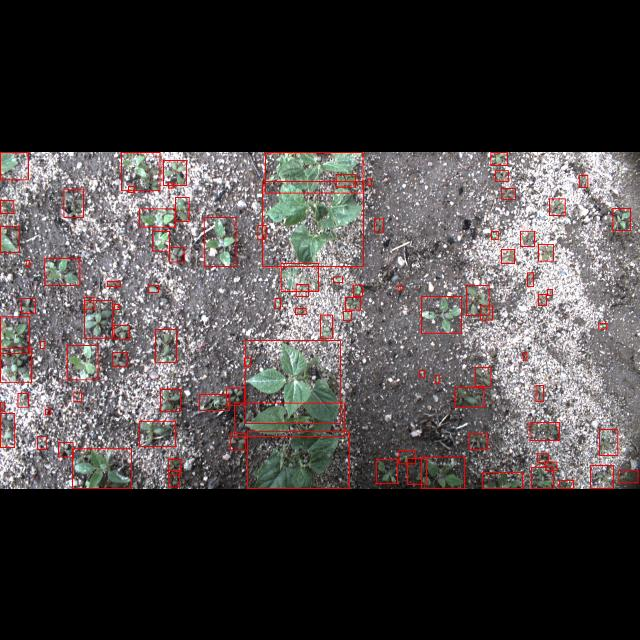crop: (262, 180, 364, 266), (244, 340, 340, 422), (247, 432, 349, 488), (265, 152, 363, 192), (234, 402, 344, 436), (0, 151, 28, 179), (1, 225, 20, 251)
weed: (72, 448, 132, 488), (204, 217, 236, 266), (120, 152, 160, 190), (421, 296, 461, 332), (422, 456, 464, 488), (66, 344, 98, 380), (1, 316, 30, 354), (281, 263, 319, 291), (84, 300, 112, 338), (1, 347, 32, 381), (44, 257, 80, 285), (139, 420, 175, 446), (156, 328, 177, 362), (466, 285, 489, 315), (139, 208, 175, 226), (483, 472, 523, 488), (454, 387, 484, 407), (64, 189, 84, 217), (377, 458, 398, 484), (530, 422, 560, 440), (590, 466, 614, 488), (164, 160, 186, 184), (598, 429, 618, 455), (1, 413, 16, 447), (408, 458, 427, 484), (199, 394, 229, 410), (531, 468, 553, 488), (160, 389, 180, 411), (613, 208, 631, 230), (153, 230, 170, 250), (175, 196, 189, 220), (468, 433, 488, 449), (475, 368, 491, 387), (230, 432, 246, 450), (320, 314, 332, 338), (226, 388, 244, 404), (538, 244, 554, 260), (618, 470, 638, 482), (336, 174, 356, 186), (550, 198, 564, 215), (58, 442, 74, 456), (112, 352, 128, 366), (114, 324, 130, 338), (170, 246, 184, 262), (521, 230, 535, 246), (399, 451, 415, 464), (21, 298, 35, 312), (346, 296, 360, 310), (491, 152, 507, 164), (168, 459, 180, 475), (168, 471, 180, 487), (502, 249, 514, 263), (0, 200, 14, 212), (480, 305, 492, 319), (17, 393, 28, 407), (296, 284, 308, 296), (374, 218, 384, 232), (501, 188, 515, 198), (536, 385, 544, 401), (353, 284, 363, 296), (578, 174, 588, 186), (496, 170, 508, 180), (559, 480, 573, 488), (258, 225, 266, 239), (85, 296, 94, 308), (38, 436, 46, 449), (546, 462, 556, 471), (538, 453, 548, 462), (527, 272, 533, 286), (74, 391, 82, 401), (343, 310, 351, 320), (538, 294, 546, 304), (148, 284, 158, 292), (108, 280, 120, 286), (434, 374, 440, 384), (296, 308, 306, 314), (275, 298, 281, 308), (492, 230, 498, 240), (333, 276, 342, 282), (244, 358, 250, 366), (599, 322, 607, 328), (1, 402, 5, 411), (129, 185, 135, 191), (420, 369, 424, 377), (40, 340, 44, 348), (368, 178, 372, 185), (46, 409, 50, 415), (114, 304, 120, 308), (548, 289, 552, 295), (26, 260, 30, 266), (168, 182, 174, 186), (524, 352, 526, 361), (398, 285, 402, 289)
